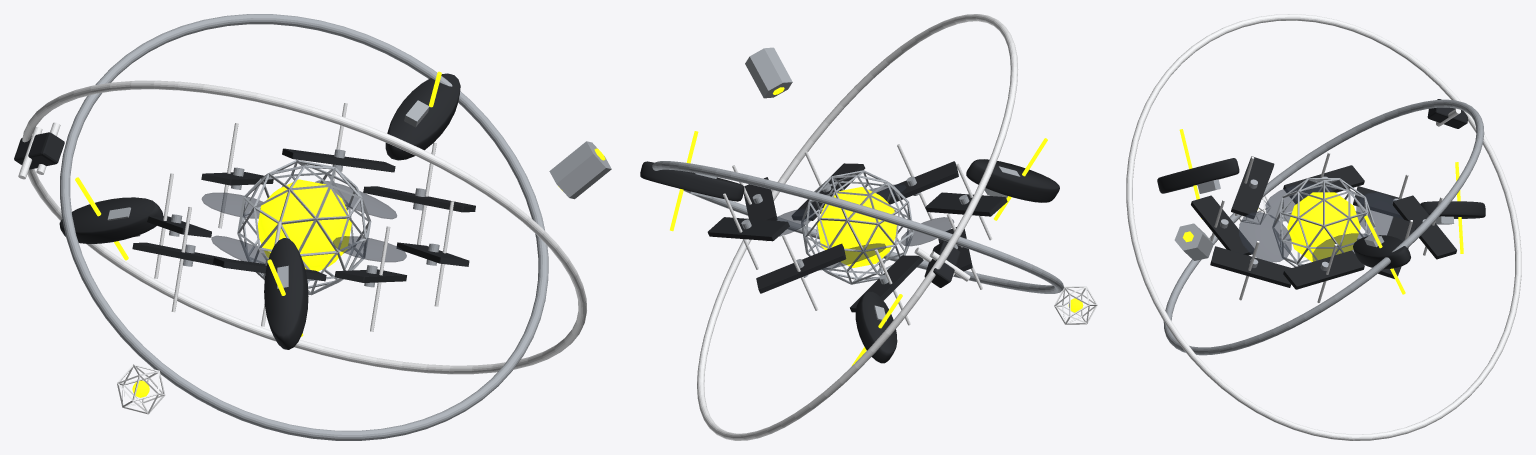
Rendered from hero-sculpture.glb.
The picture shows the model from 3 angles, left to right: view 1: azimuth 30°, elevation 25°; view 2: azimuth 150°, elevation 25°; view 3: azimuth 270°, elevation 25°; orthographic projection. The views are drawn at different scales.
Visible parts, largest first — view 1: Gimbal_Ring_Titanium, Gimbal_Ring_OuterChrome, Core_GeodesicLattice, Core_LuminousNucleus, Sculpture_Carapace_3, Sculpture_Carapace_1, Sculpture_Carapace_2, Satellite_HexNode, Core_GlassShield_4, Gimbal_CaliperBracket, Satellite_Octahedron, Iris_Blade_2 (+10 smaller); view 2: Gimbal_Ring_OuterChrome, Gimbal_Ring_Titanium, Core_GeodesicLattice, Core_LuminousNucleus, Sculpture_Carapace_3, Sculpture_Carapace_1, Sculpture_Carapace_2, Iris_Blade_3, Satellite_HexNode, Iris_Blade_2, Iris_Blade_6, Iris_Blade_7 (+8 smaller); view 3: Gimbal_Ring_OuterChrome, Gimbal_Ring_Titanium, Core_LuminousNucleus, Core_GeodesicLattice, Core_GlassShield_4, Iris_Blade_1, Iris_Blade_8, Iris_Blade_7, Sculpture_Carapace_3, Iris_Blade_3, Iris_Blade_6, Sculpture_Carapace_1 (+9 smaller).
Part boxes in pixels (left/top/right/bottom): Gimbal_Ring_Titanium: left=60, top=14, right=548, bottom=440; Gimbal_Ring_OuterChrome: left=22, top=80, right=586, bottom=374; Core_GeodesicLattice: left=237, top=160, right=371, bottom=295; Core_LuminousNucleus: left=258, top=179, right=351, bottom=271; Sculpture_Carapace_3: left=264, top=238, right=308, bottom=349; Sculpture_Carapace_1: left=385, top=73, right=460, bottom=160; Sculpture_Carapace_2: left=59, top=197, right=163, bottom=243; Satellite_HexNode: left=549, top=141, right=611, bottom=199; Core_GlassShield_4: left=332, top=236, right=406, bottom=262; Gimbal_CaliperBracket: left=14, top=132, right=64, bottom=169; Satellite_Octahedron: left=117, top=364, right=165, bottom=414; Iris_Blade_2: left=282, top=148, right=395, bottom=172; Gimbal_Ring_OuterChrome: left=697, top=14, right=1018, bottom=440; Gimbal_Ring_Titanium: left=652, top=161, right=1063, bottom=293; Core_GeodesicLattice: left=801, top=170, right=914, bottom=284; Core_LuminousNucleus: left=817, top=187, right=896, bottom=267; Sculpture_Carapace_3: left=966, top=159, right=1059, bottom=202; Sculpture_Carapace_1: left=640, top=161, right=744, bottom=201; Sculpture_Carapace_2: left=855, top=291, right=897, bottom=363; Iris_Blade_3: left=756, top=243, right=846, bottom=293; Satellite_HexNode: left=745, top=47, right=792, bottom=98; Iris_Blade_2: left=707, top=217, right=789, bottom=241; Iris_Blade_6: left=925, top=192, right=1007, bottom=216; Iris_Blade_7: left=877, top=161, right=958, bottom=204; Gimbal_Ring_OuterChrome: left=1126, top=14, right=1521, bottom=440; Gimbal_Ring_Titanium: left=1163, top=99, right=1484, bottom=355; Core_LuminousNucleus: left=1287, top=192, right=1360, bottom=261; Core_GeodesicLattice: left=1272, top=178, right=1375, bottom=266; Core_GlassShield_4: left=1239, top=212, right=1291, bottom=262; Iris_Blade_1: left=1283, top=250, right=1364, bottom=289; Iris_Blade_8: left=1210, top=246, right=1291, bottom=287; Iris_Blade_7: left=1191, top=195, right=1254, bottom=255; Sculpture_Carapace_3: left=1157, top=158, right=1239, bottom=193; Iris_Blade_3: left=1392, top=195, right=1456, bottom=259; Iris_Blade_6: left=1231, top=156, right=1274, bottom=218; Sculpture_Carapace_1: left=1353, top=235, right=1410, bottom=269.
Size of the model in its own units: 4.5 by 4 by 4.51.
